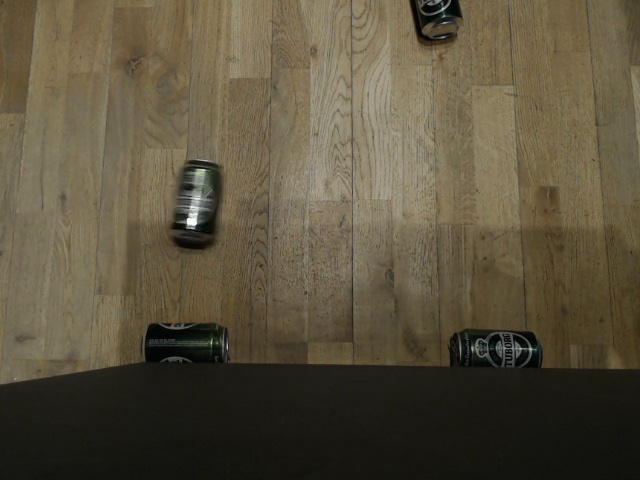beer: (167, 159, 221, 244)
